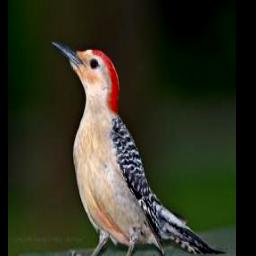Woodpecker: (48, 36, 227, 256)
